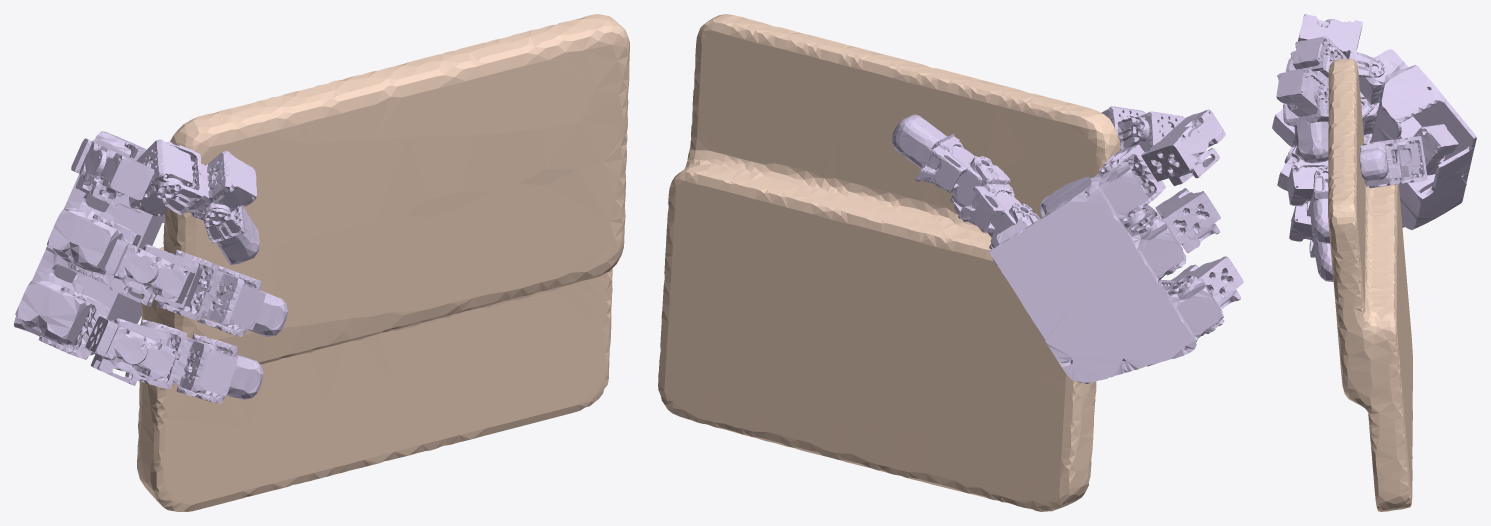
File: 0e18713fa1bfdb-closed.glb
The picture shows the model from 3 angles, left to right: view 1: azimuth 30°, elevation 25°; view 2: azimuth 150°, elevation 25°; view 3: azimuth 270°, elevation 25°; orthographic projection. The views are drawn at different scales.
Visible parts, largest first — view 1: world, LEAP_hand; view 2: world, LEAP_hand; view 3: LEAP_hand, world.
Boxes of the visible parts, <box> form: world: <box>137,14,629,511</box>; LEAP_hand: <box>14,131,287,403</box>; world: <box>658,14,1120,511</box>; LEAP_hand: <box>891,106,1243,383</box>; LEAP_hand: <box>1272,14,1476,281</box>; world: <box>1328,58,1412,511</box>.
Bounding box in the file's own units: 0.3977 × 0.268 × 0.1579.
